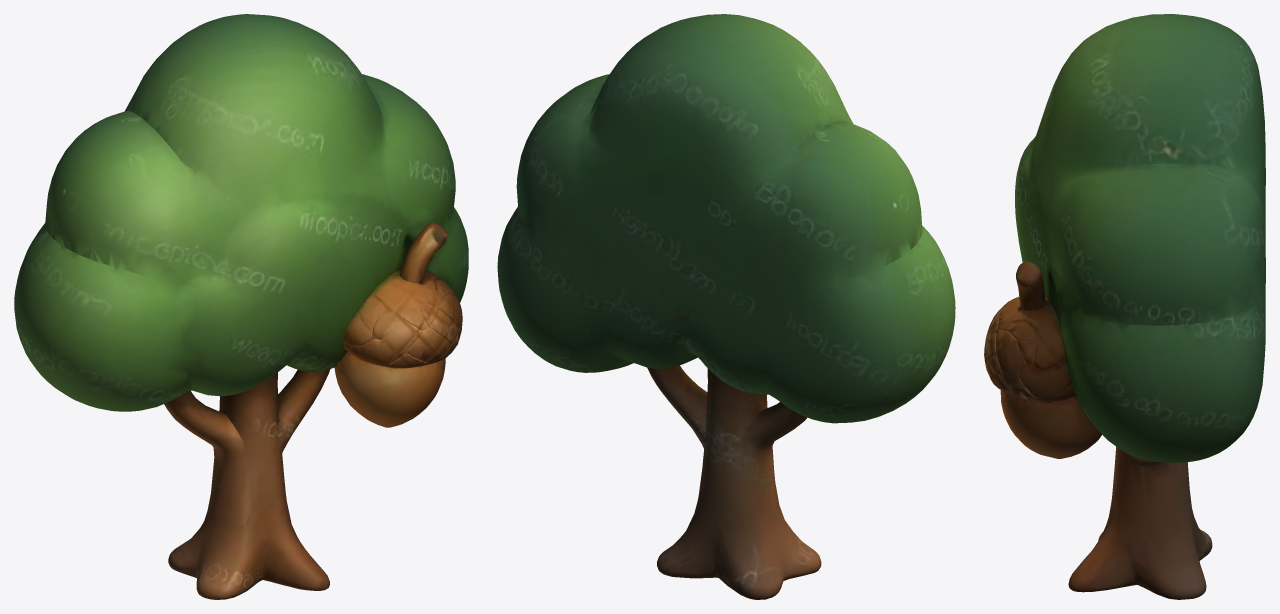
Rendered from acorn_pbr.glb.
3 views of the same model, side by side, from view 1: azimuth 30°, elevation 25°; view 2: azimuth 150°, elevation 25°; view 3: azimuth 270°, elevation 25° (orthographic). The views are drawn at different scales.
Parts seen in each view (by area): view 1: model; view 2: model; view 3: model.
Boxes of the visible parts, x1=… form: model: x1=14, y1=14, x2=468, y2=599; model: x1=497, y1=14, x2=955, y2=599; model: x1=984, y1=14, x2=1265, y2=599.
Size of the model in its own units: 1.41 by 1.71 by 0.7927.
Materials: 1 (1 with a texture image).
